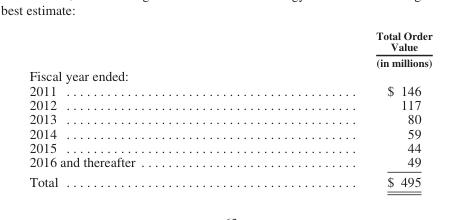table: (28, 28, 431, 188)
table column: (28, 28, 254, 188), (254, 28, 431, 188)
table column header: (28, 28, 431, 68)
table projected row header: (28, 68, 431, 82)
table row: (28, 28, 431, 68), (28, 154, 431, 171), (28, 171, 431, 188), (28, 82, 431, 97), (28, 125, 431, 140), (28, 68, 431, 82), (28, 97, 431, 111), (28, 111, 431, 125), (28, 140, 431, 154)
